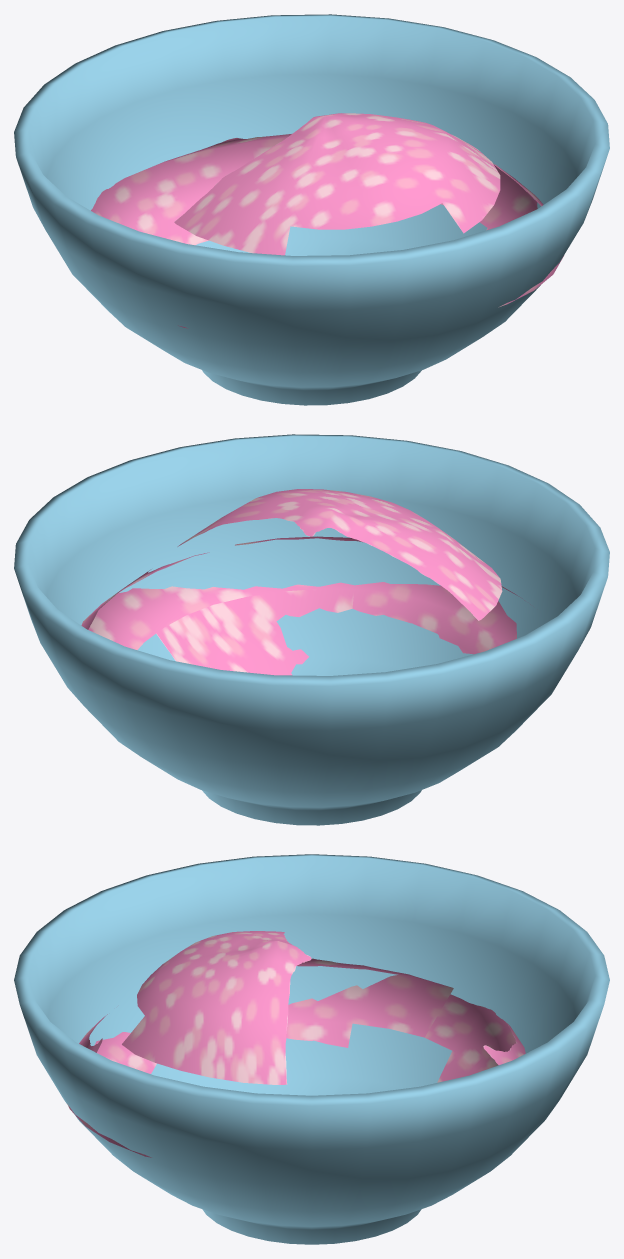
File: Bowl of Pink Dust.fbx
The picture shows the model from 3 angles, top to bottom: view 1: azimuth 30°, elevation 25°; view 2: azimuth 150°, elevation 25°; view 3: azimuth 270°, elevation 25°; orthographic projection.
Parts seen in each view (by area): view 1: Bowl of Pink; view 2: Bowl of Pink; view 3: Bowl of Pink.
Part boxes in pixels (x1,y1,x2,y2): Bowl of Pink: (14,14,609,405); Bowl of Pink: (14,434,609,825); Bowl of Pink: (14,854,609,1244).
Size of the model in its own units: 44.24 by 20.8 by 44.24.
